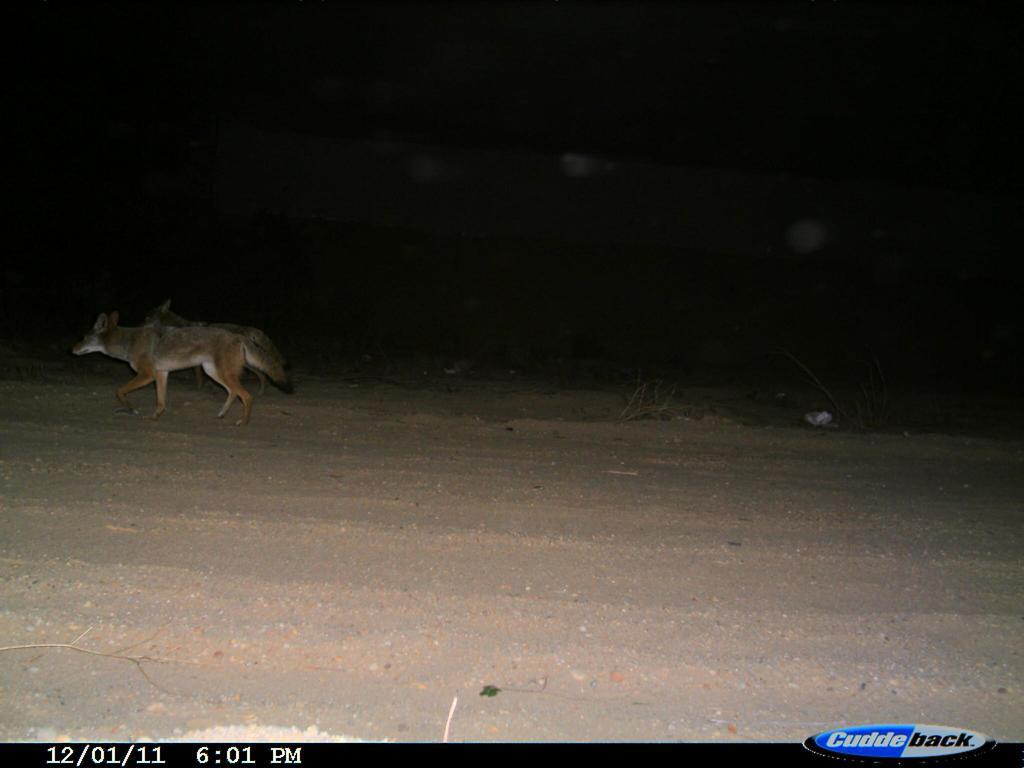coyote: (69, 309, 296, 429), (135, 298, 294, 400)
